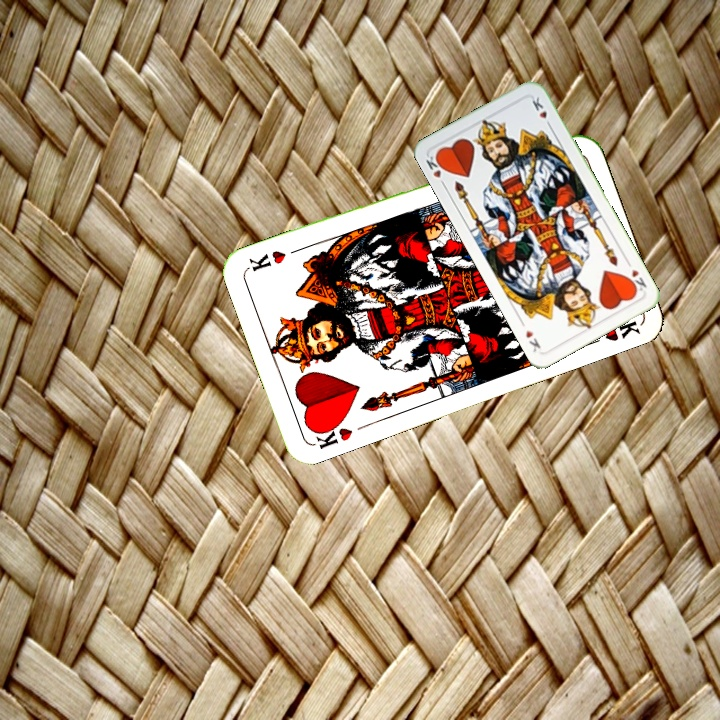HK: (308, 416, 355, 452), (422, 150, 449, 190), (624, 265, 649, 295)
